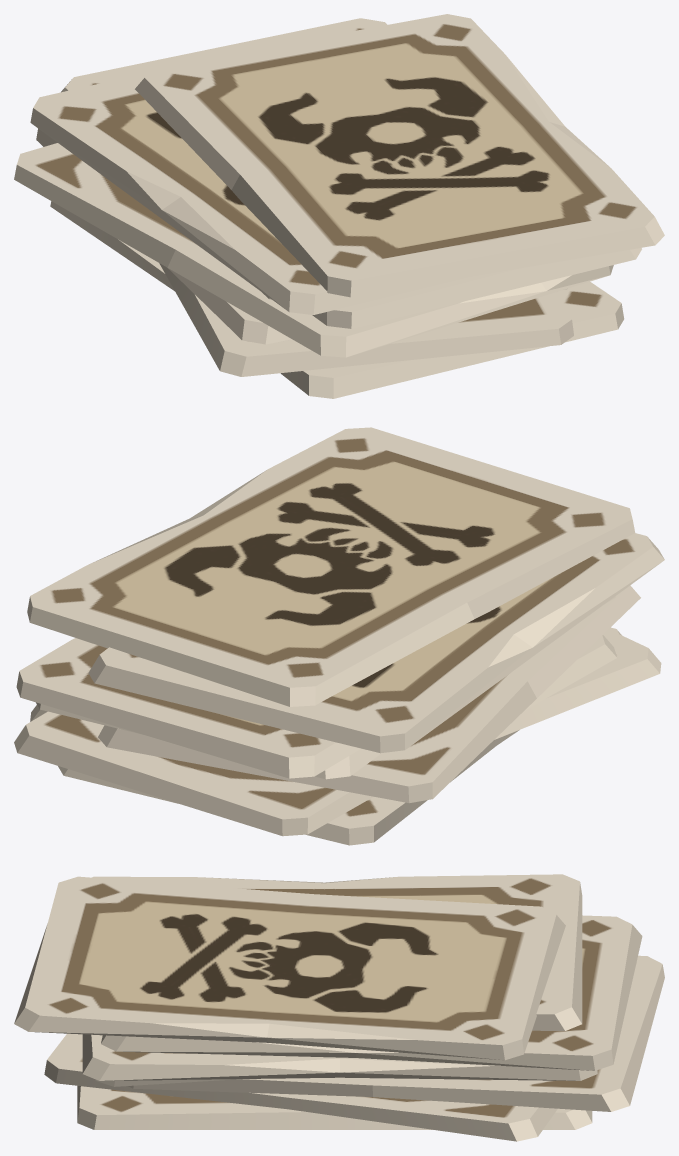
Rendered from SM_Prop_Tarot_Card_Deck_01.fbx.
3 renders of one model, top to bottom at view 1: azimuth 30°, elevation 25°; view 2: azimuth 150°, elevation 25°; view 3: azimuth 270°, elevation 25°, orthographic. The views are drawn at different scales.
Parts seen in each view (by area): view 1: SM_Prop_Tarot_Card_Deck_01; view 2: SM_Prop_Tarot_Card_Deck_01; view 3: SM_Prop_Tarot_Card_Deck_01.
Part boxes in pixels (bbox=[...]): SM_Prop_Tarot_Card_Deck_01: bbox=[14, 14, 664, 398]; SM_Prop_Tarot_Card_Deck_01: bbox=[14, 427, 664, 845]; SM_Prop_Tarot_Card_Deck_01: bbox=[14, 874, 664, 1141].
Bounding box in the file's own units: 18.48 × 4.96 × 25.42.
